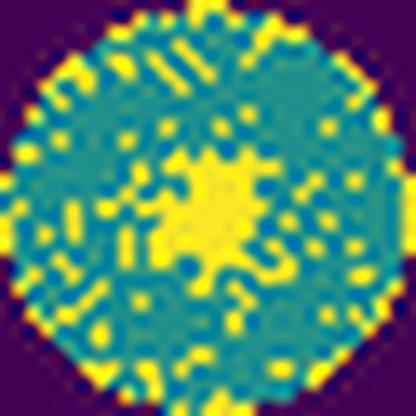Center: (99, 150, 298, 297)
